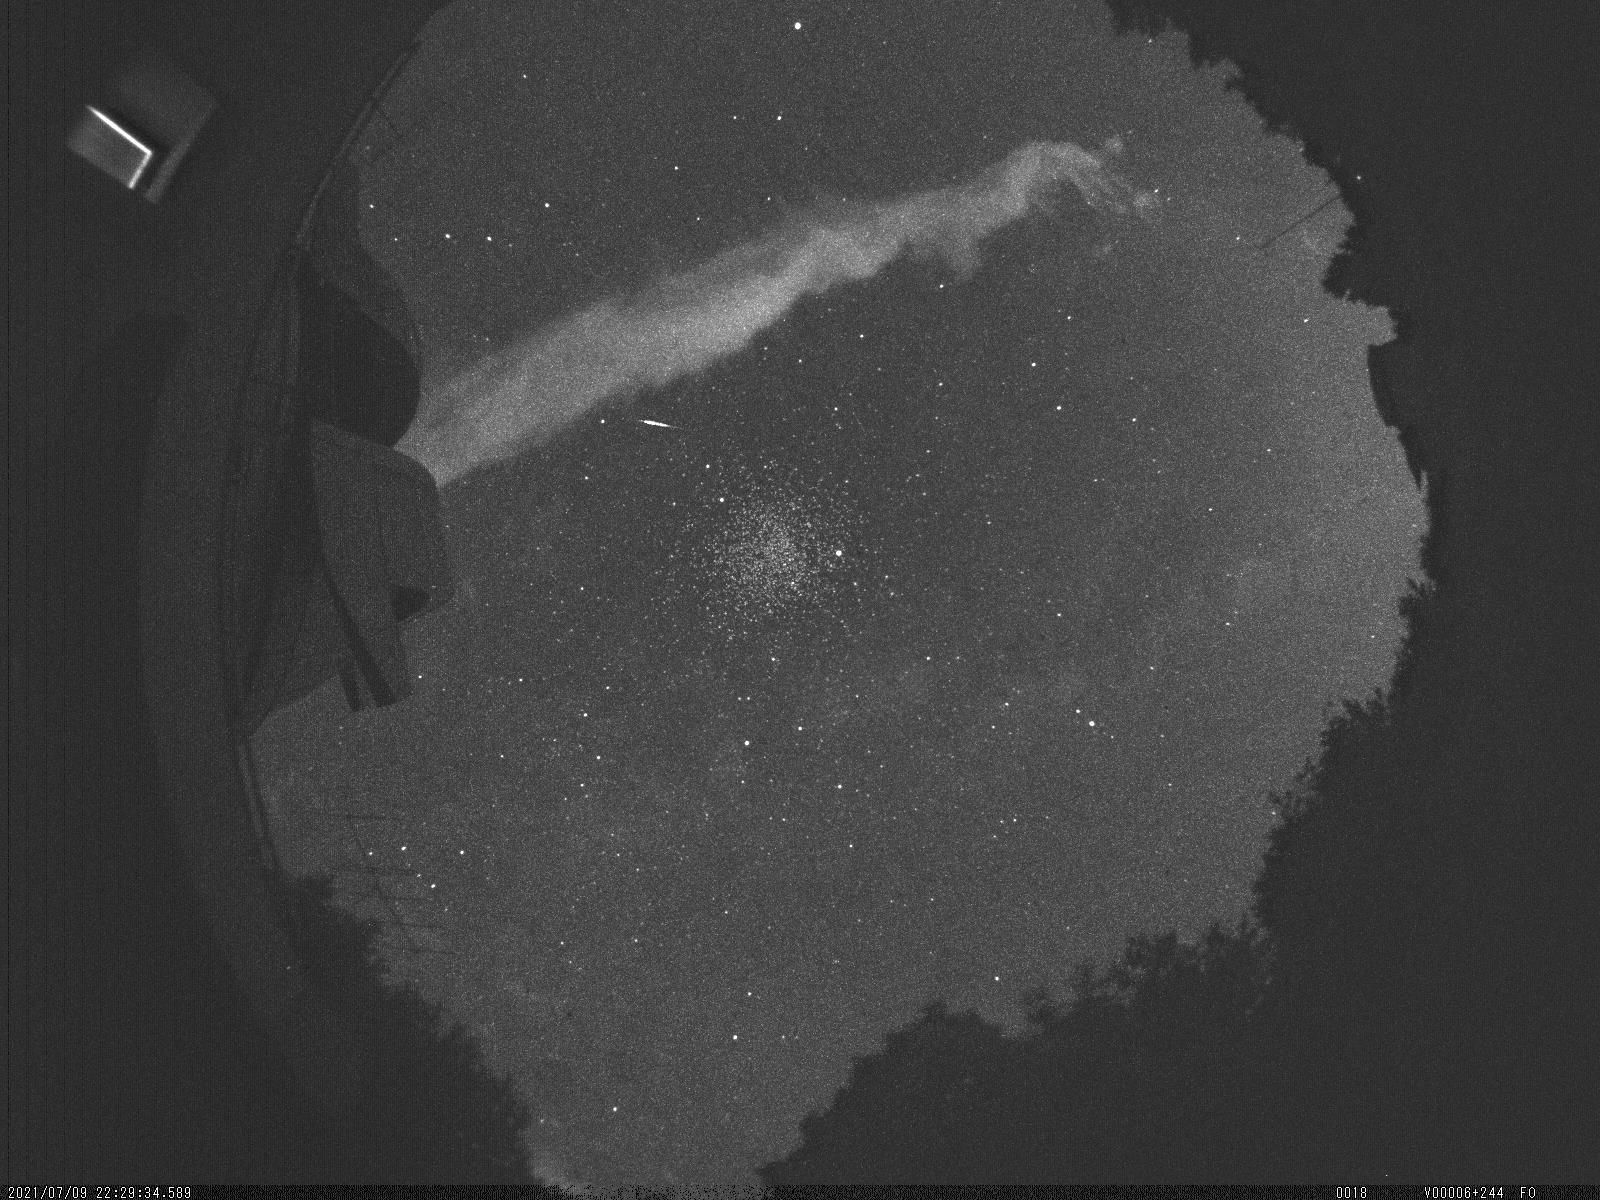Meteor: (635, 412, 685, 440)
